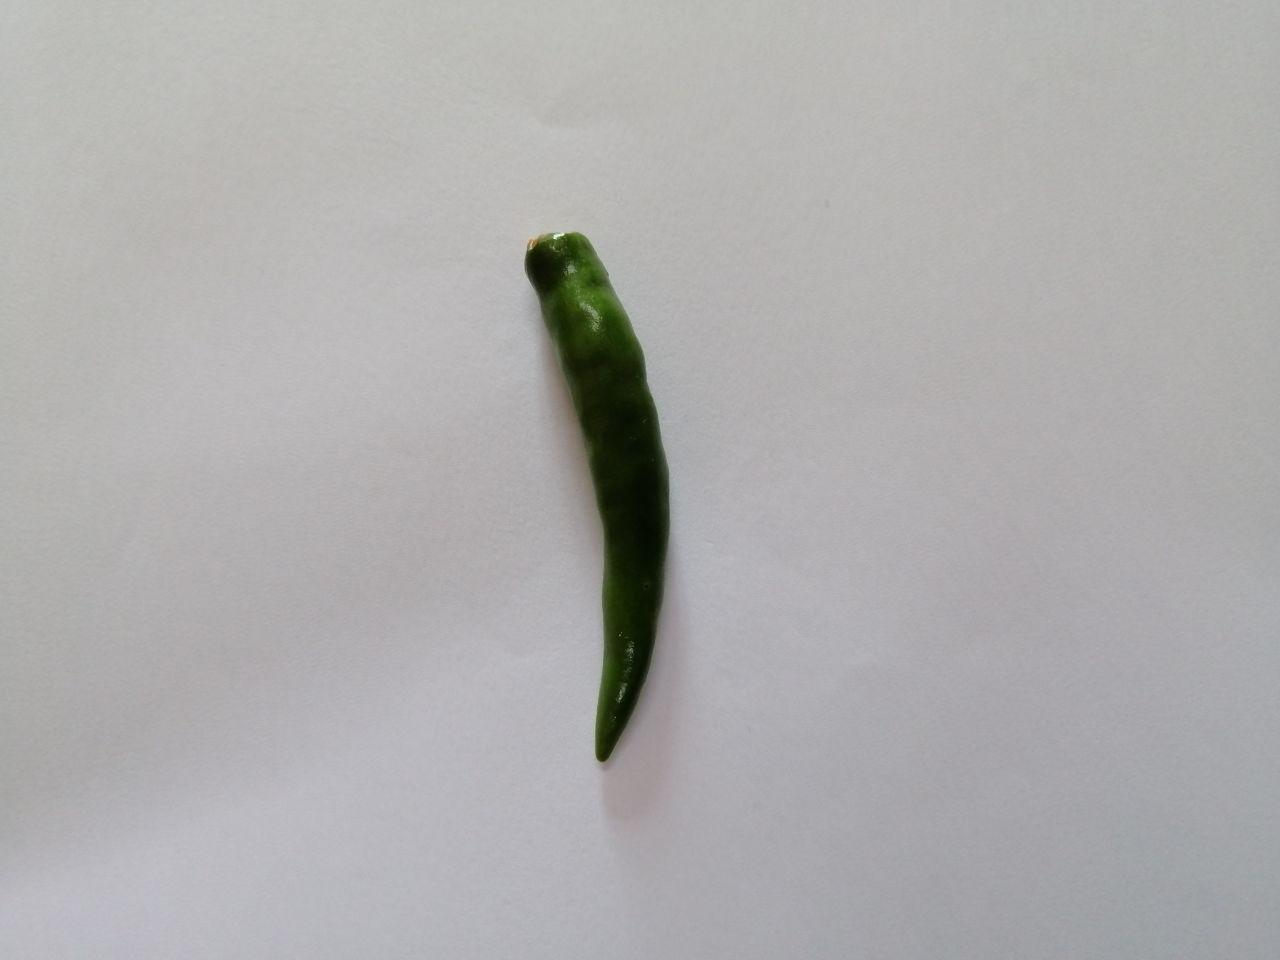lada hijau: (513, 217, 696, 789)
